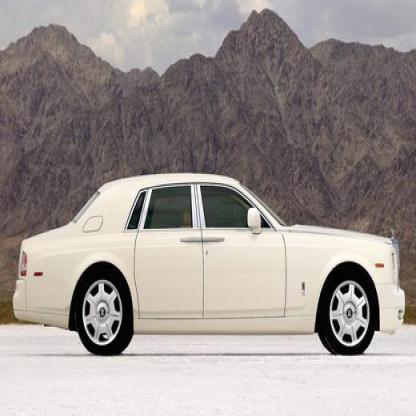Vehicle: (7, 132, 410, 402)
